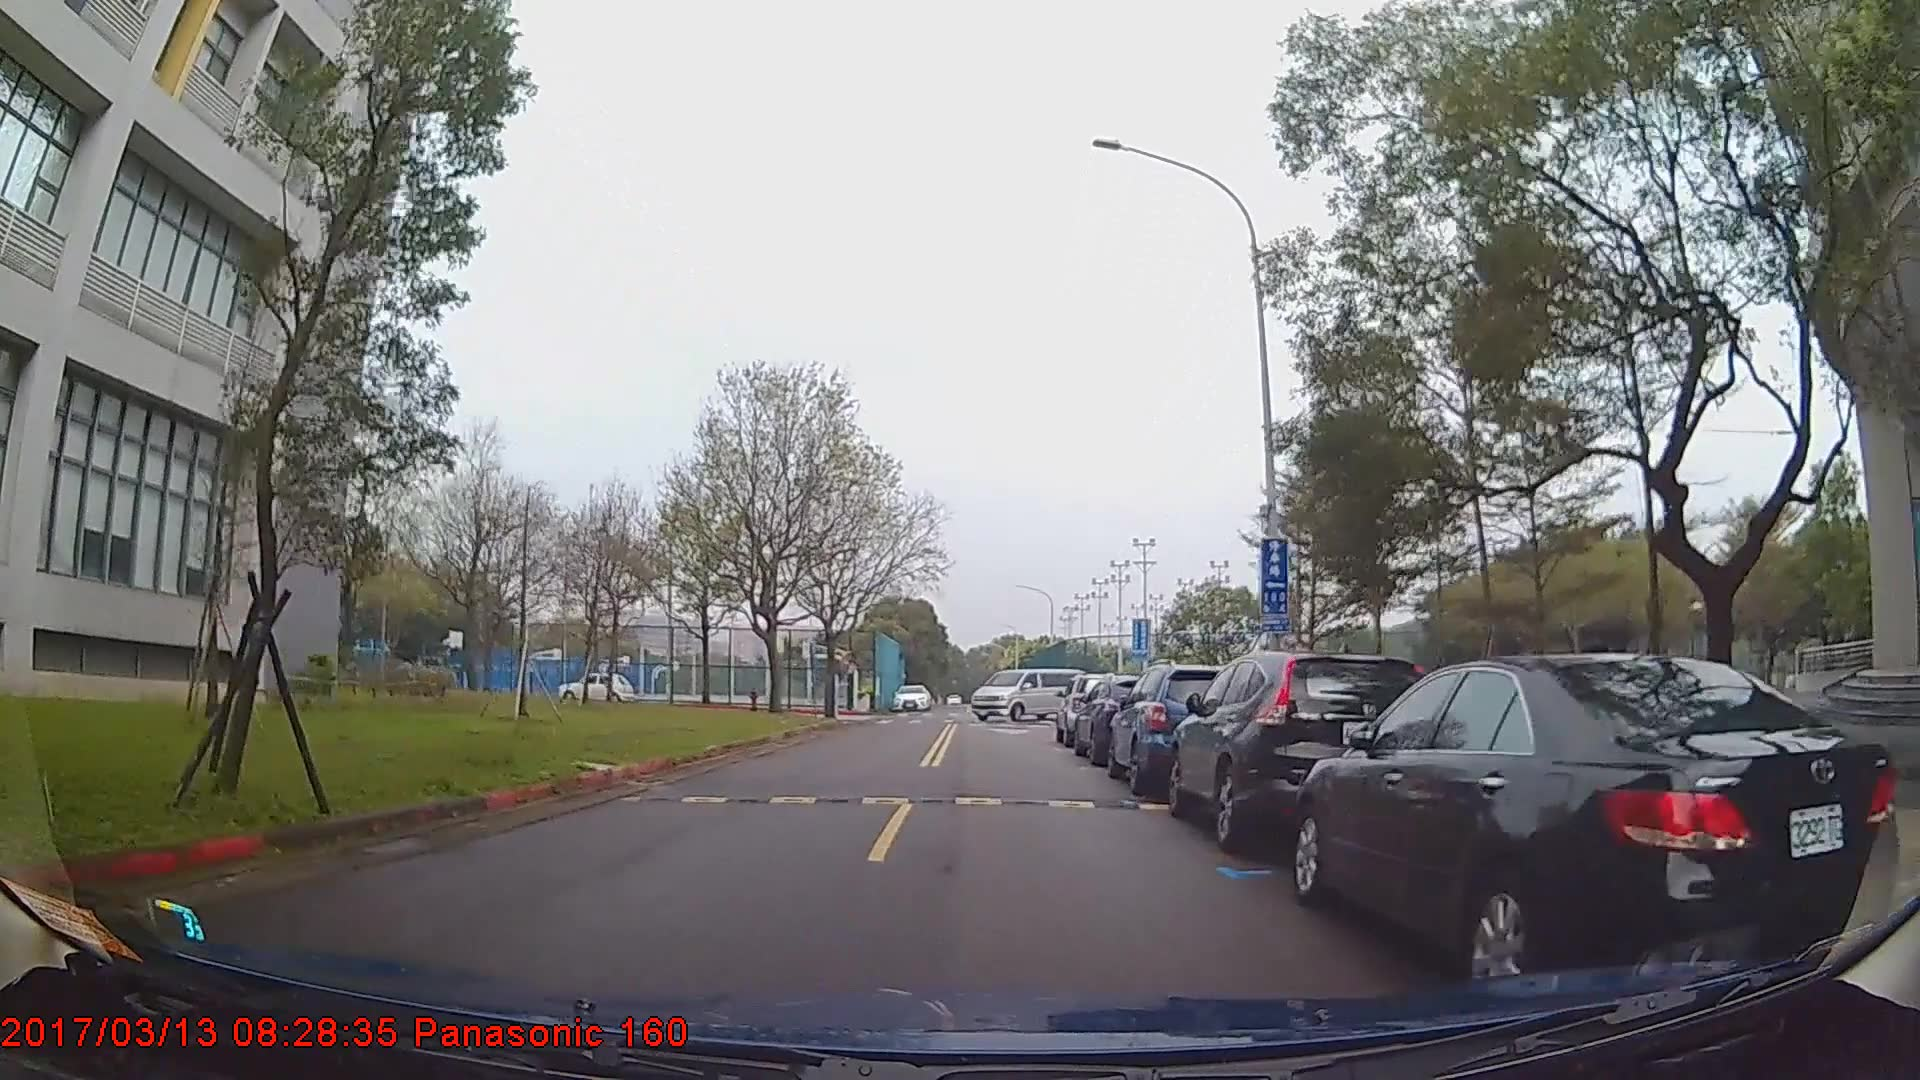vehicle: (1288, 651, 1898, 1006), (1166, 647, 1435, 852), (1106, 662, 1245, 794), (972, 667, 1085, 720), (556, 671, 636, 705), (891, 682, 934, 711)
